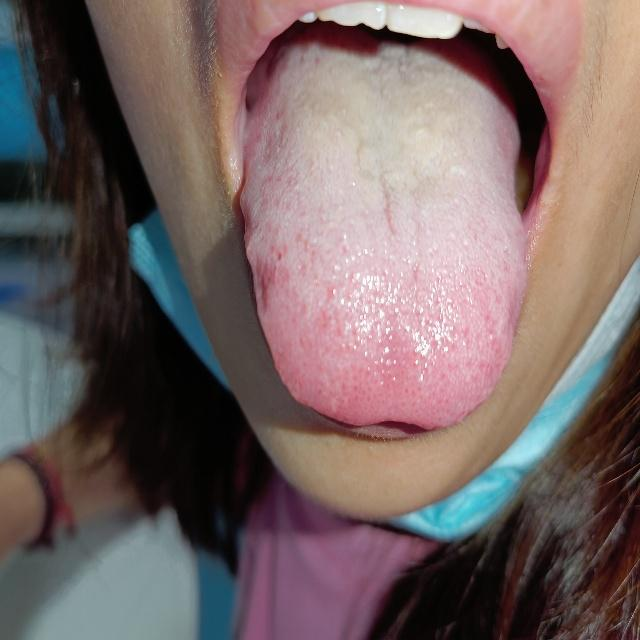huangtaishe: (239, 38, 527, 431)
liewenshe: (376, 172, 398, 240)
